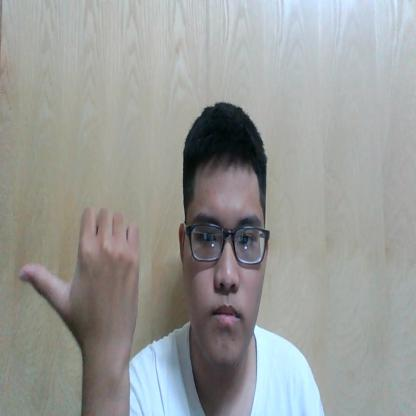right: (21, 207, 140, 354)
